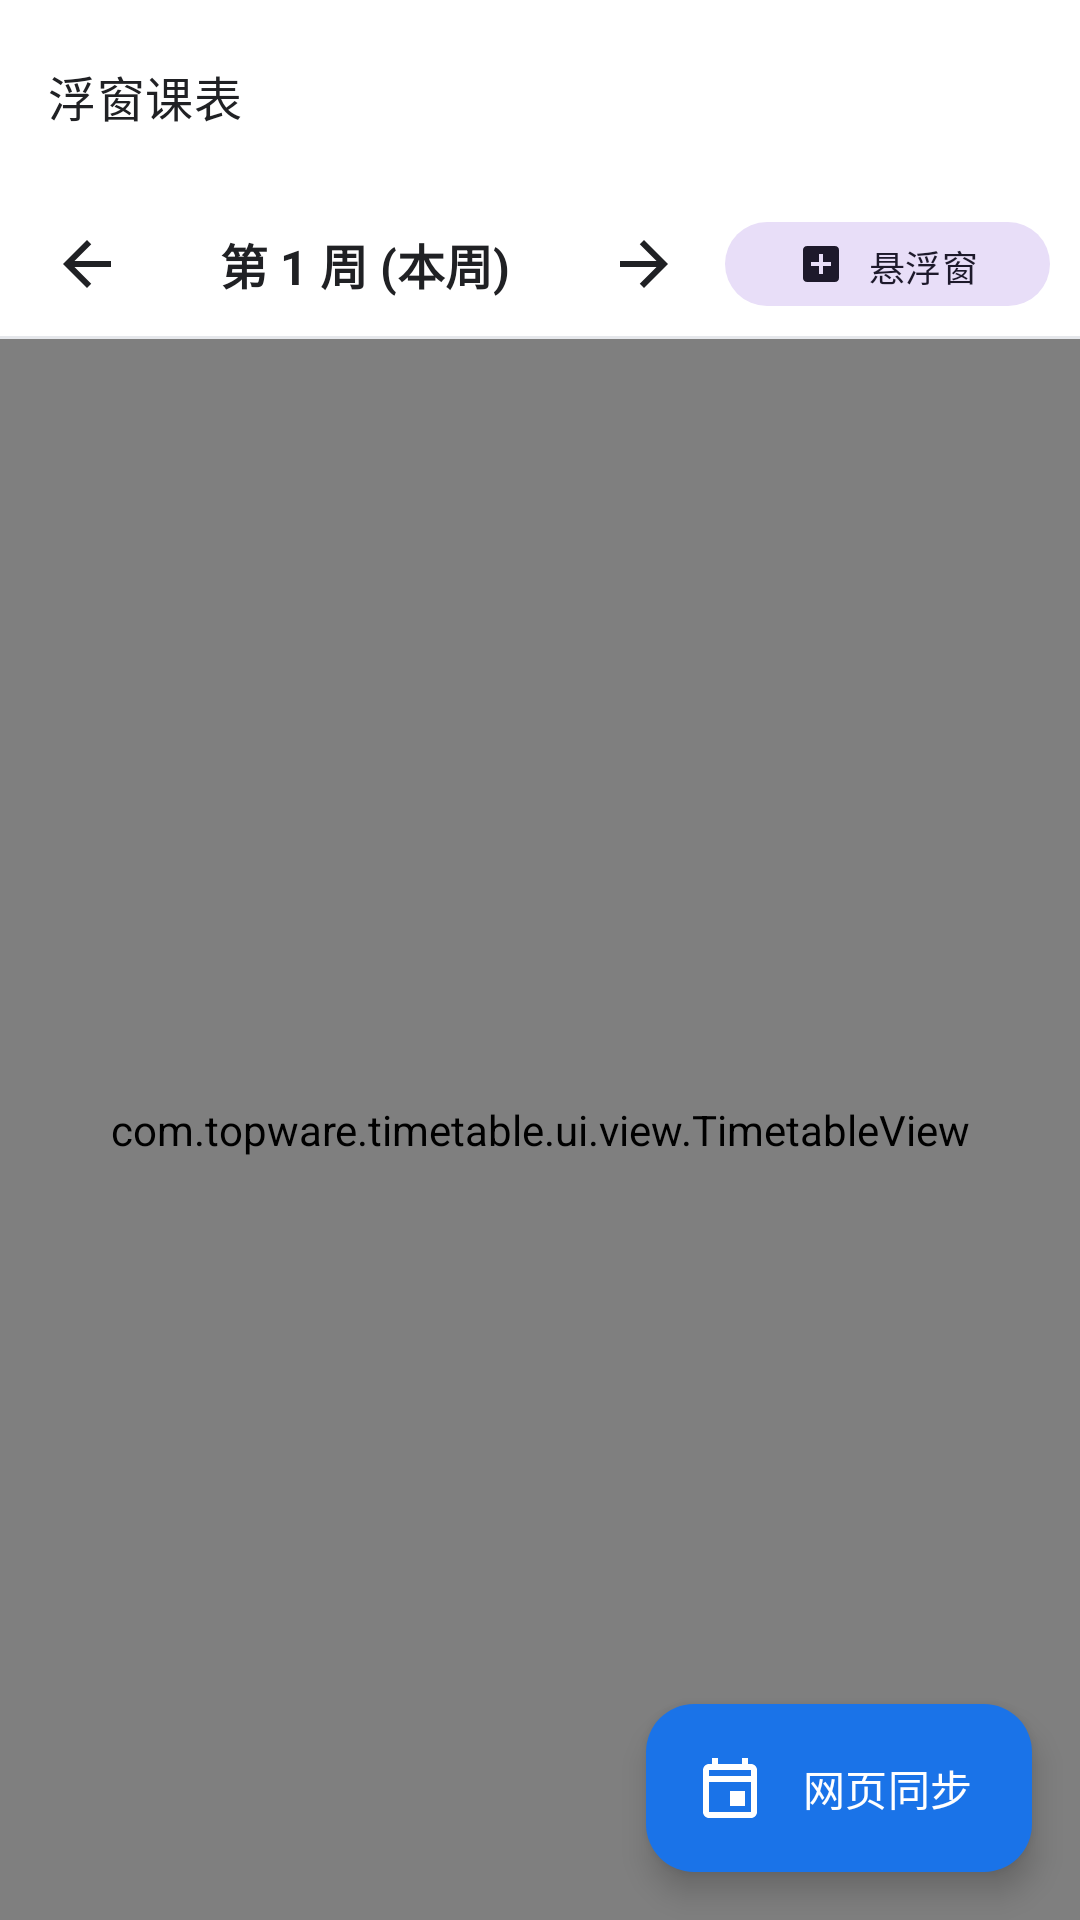

Icons on this 1080 × 1920 Android screen, each with its box as rect(x1, y1, x2, y2):
上一周: rect(63, 240, 111, 288)
